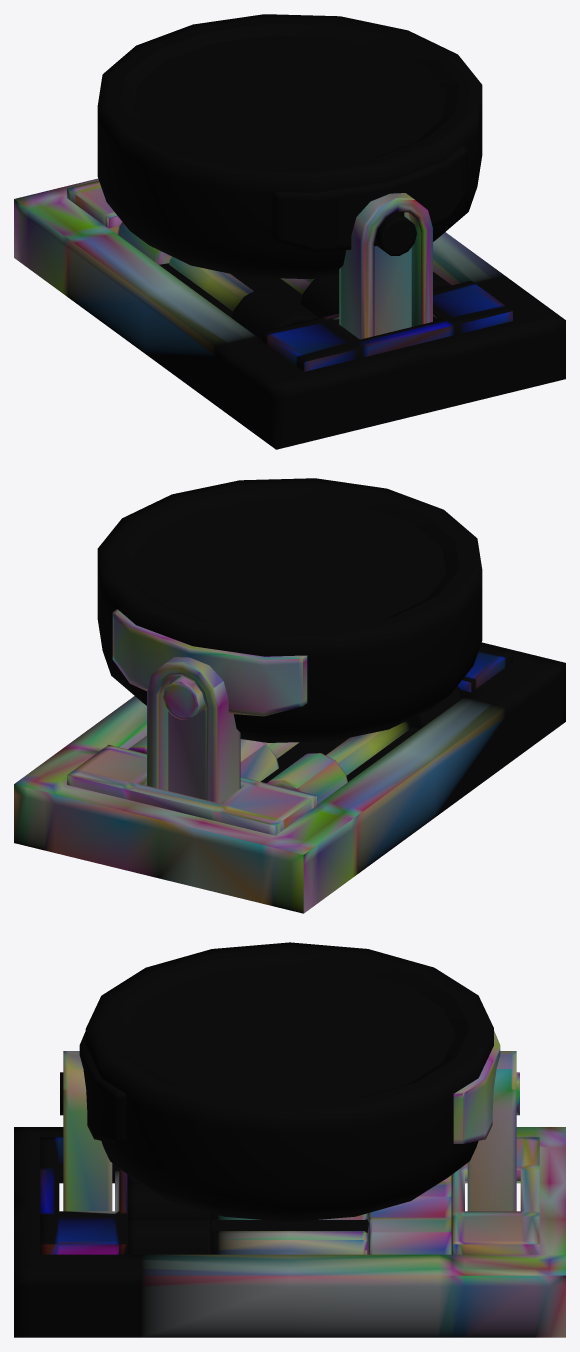
File: CS_GroundsLights_01.gltf
3 views of the same model, one above another, from view 1: azimuth 30°, elevation 25°; view 2: azimuth 150°, elevation 25°; view 3: azimuth 270°, elevation 25° (orthographic). The views are drawn at different scales.
Parts seen in each view (by area): view 1: CS_GroundsLights_01; view 2: CS_GroundsLights_01; view 3: CS_GroundsLights_01.
Boxes of the visible parts, box(x1,y1,x2,y2) form: CS_GroundsLights_01: box(14, 14, 565, 449); CS_GroundsLights_01: box(14, 478, 565, 913); CS_GroundsLights_01: box(14, 942, 565, 1337).
Size of the model in its own units: 7.05 by 4.47 by 9.53.
